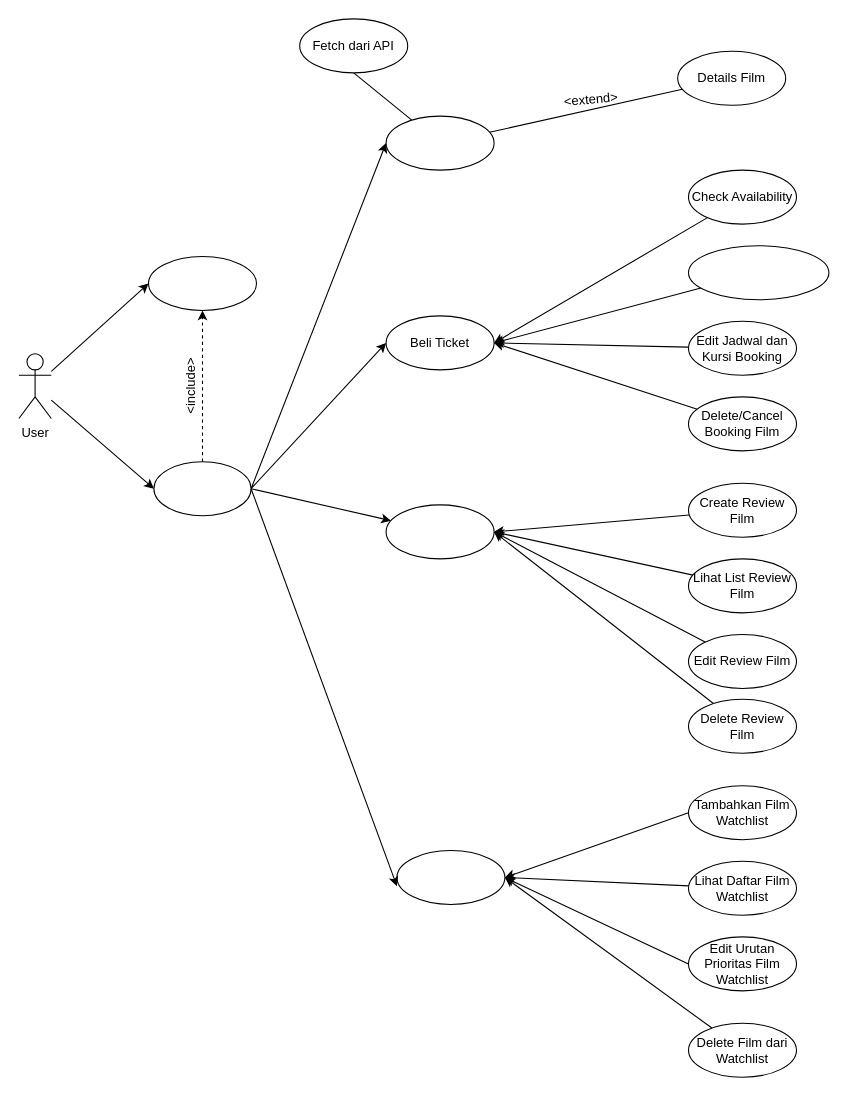
Some shapes in this 848 by 1096 pixel diagram are drawn without their labels. The centre of each missing label's shape, as x and y in pixels:
"List Film" belongs at pixel 439 142.
"Login Account" belongs at pixel 202 488.
"Memilih Jadwal dan Kursi Booking Film" belongs at pixel 758 272.
"Register Account" belongs at pixel 201 282.
"Review Film" belongs at pixel 439 531.
"Watchlist Film" belongs at pixel 450 877.
